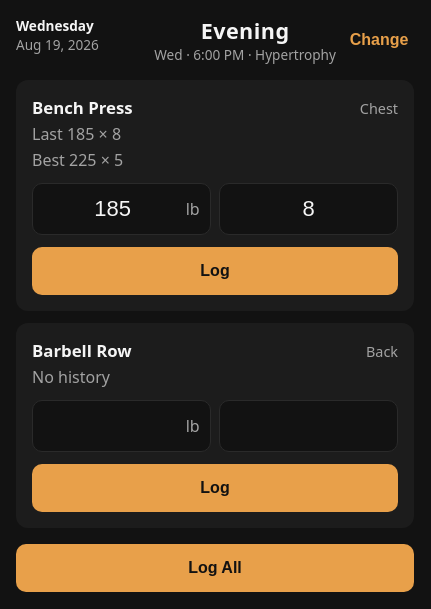
Test case: WorkoutPage › renders the closest set, prefills, and logs one exercise
expect the heading "Evening" is shown: met, box [201,16,290,45]
expect the text "Wednesday" is shown: met, box [16,16,94,35]
Replace the text in the field named "Weight (lb)" with "187.5". click: (113, 209)
box: [43,184,182,234]
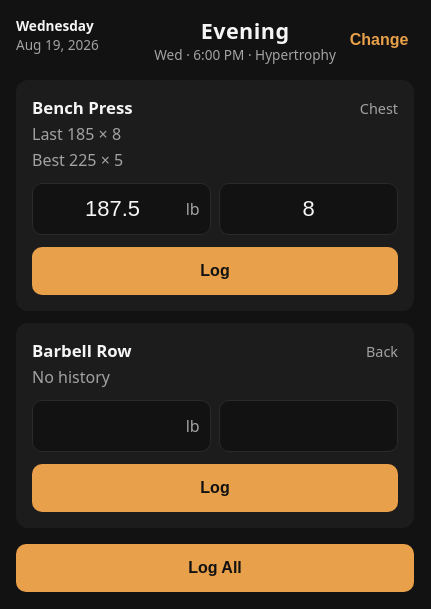
Replace the text in the field named "Reps" below "Best 225 × 5" with "9". click: (308, 209)
box: [230,184,387,234]
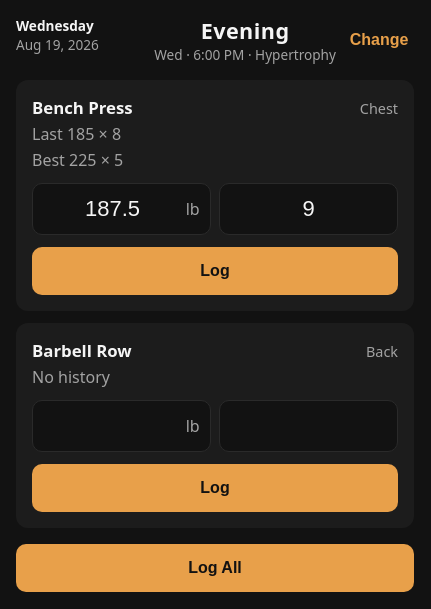
Click the button "Log" below "Best 225 × 5". click: (215, 271)
box: [32,247,398,295]
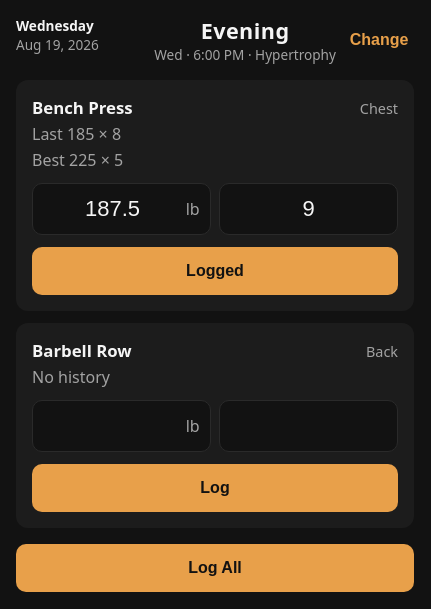
expect the button "Log" is shown: met, box [32,464,398,512]
expect the button "Logged" is shown: met, box [32,247,398,295]
